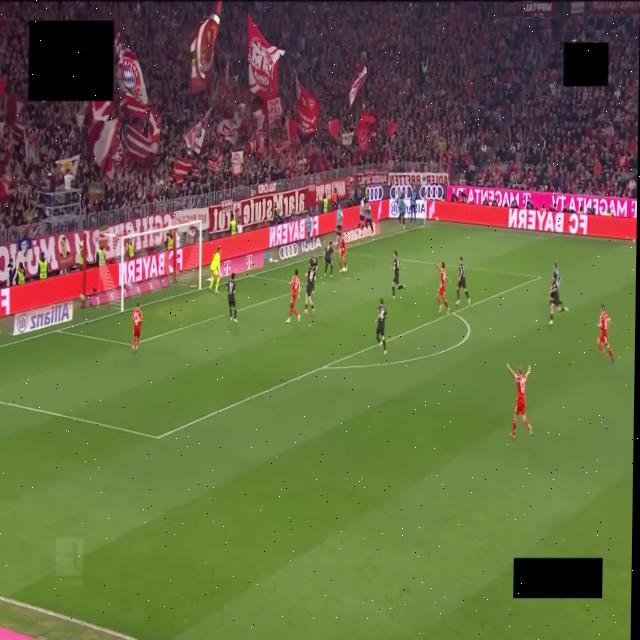ball: (342, 266, 346, 272)
player: (507, 364, 531, 438), (597, 304, 614, 366), (548, 276, 565, 325), (285, 270, 299, 322), (303, 258, 315, 314), (455, 257, 469, 305), (435, 262, 448, 313), (392, 251, 405, 299), (376, 298, 386, 355), (131, 304, 141, 351), (209, 247, 219, 293), (227, 273, 236, 322), (323, 242, 332, 277), (339, 236, 346, 272), (552, 263, 560, 286), (309, 256, 317, 271)
referee: (557, 302, 567, 312)
